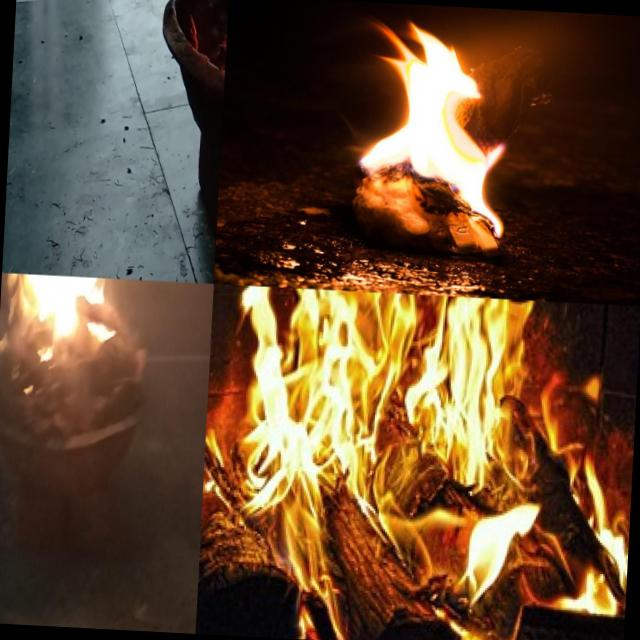fire: (211, 284, 640, 640), (348, 14, 520, 236), (0, 273, 182, 378)
